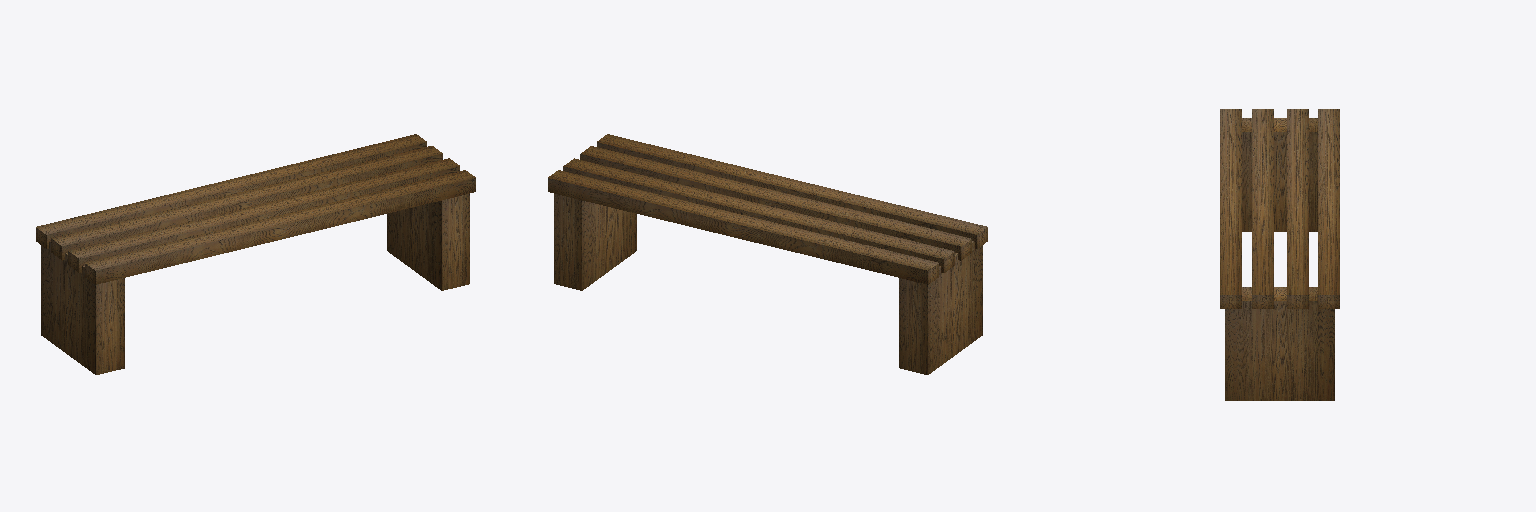
3 renders of one model, left to right at view 1: azimuth 30°, elevation 25°; view 2: azimuth 150°, elevation 25°; view 3: azimuth 270°, elevation 25°, orthographic.
Visible parts, largest first — view 1: Box083, Box084, Box082; view 2: Box083, Box084, Box082; view 3: Box083, Box082, Box084.
Boxes of the visible parts, <box> form: Box083: <box>36,134,475,284</box>; Box084: <box>41,241,124,374</box>; Box082: <box>387,194,469,290</box>; Box083: <box>548,134,987,284</box>; Box084: <box>899,241,982,374</box>; Box082: <box>554,194,636,290</box>; Box083: <box>1220,109,1339,308</box>; Box082: <box>1225,287,1334,400</box>; Box084: <box>1242,118,1317,231</box>.
Bounding box in the file's own units: 78.74 × 21.16 × 21.48.
Materials: 1 (1 with a texture image).